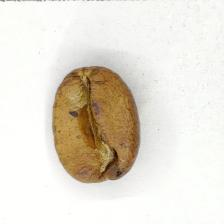NG: (64, 74, 126, 173)
